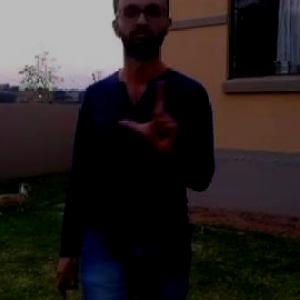land_hand: (116, 74, 186, 157)
